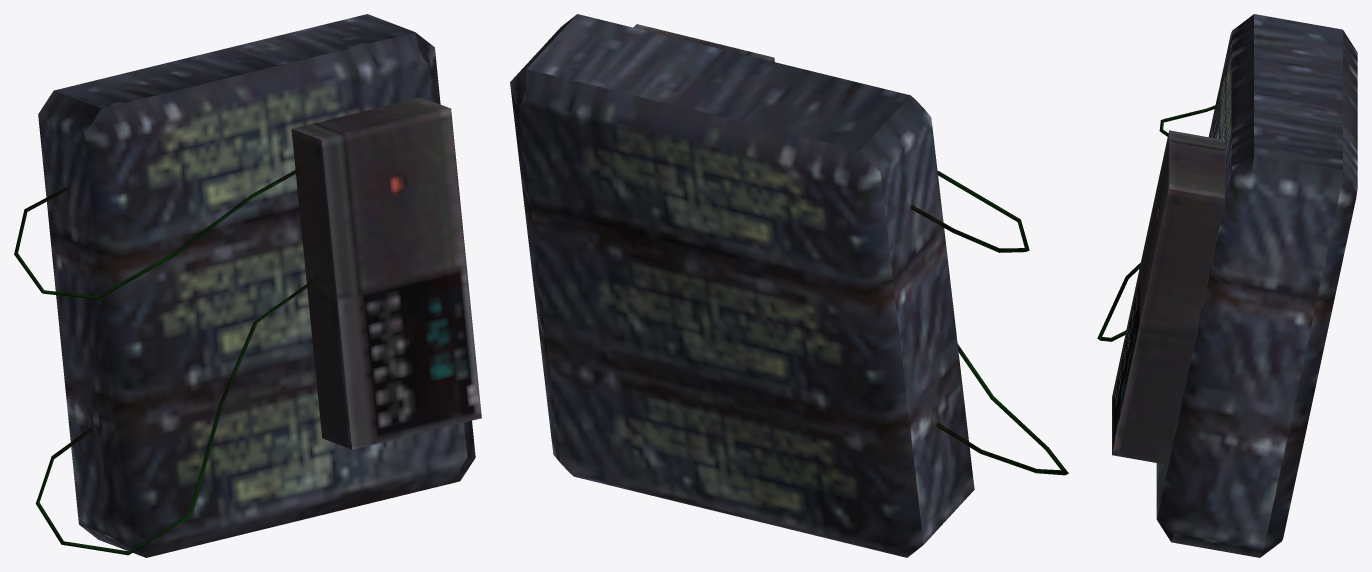
The picture shows the model from 3 angles, left to right: view 1: azimuth 30°, elevation 25°; view 2: azimuth 150°, elevation 25°; view 3: azimuth 270°, elevation 25°; orthographic projection. The views are drawn at different scales.
Visible parts, largest first — view 1: _C4bm0; view 2: _C4bm0; view 3: _C4bm0.
Part boxes in pixels (x1,y1,x2,y2): _C4bm0: (14,14,481,557); _C4bm0: (510,14,1068,557); _C4bm0: (1097,14,1357,557).
Bounding box in the file's own units: 0.3782 × 0.3676 × 0.2159.
Materials: 1 (1 with a texture image).
